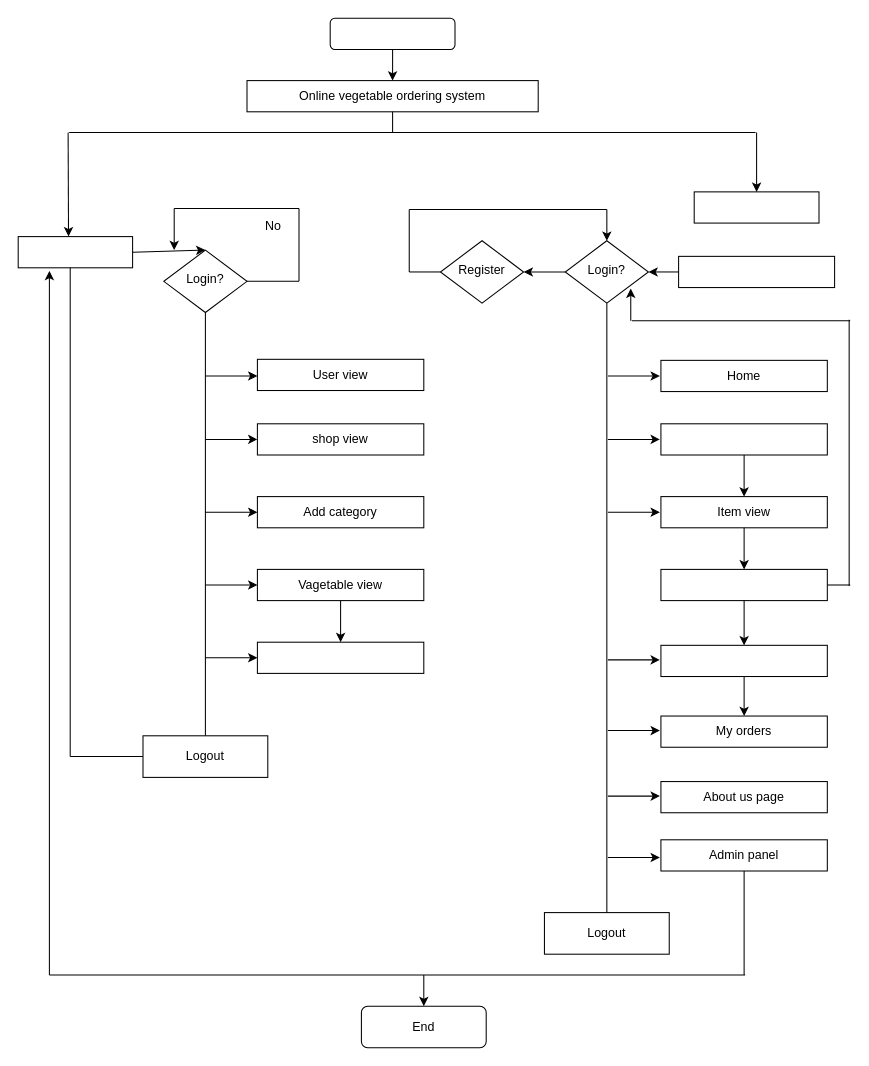
Image size: 869x1066. Some labels were removed from this diagram. Each missing label, with the box of its shape:
Add to cart: (660, 568, 827, 601)
Add vagetable: (256, 641, 424, 673)
Admin: (17, 236, 133, 268)
Payment: (660, 644, 827, 677)
shop: (660, 423, 827, 455)
Show item: (678, 255, 835, 288)
Start: (329, 17, 455, 49)
User: (693, 191, 819, 223)
